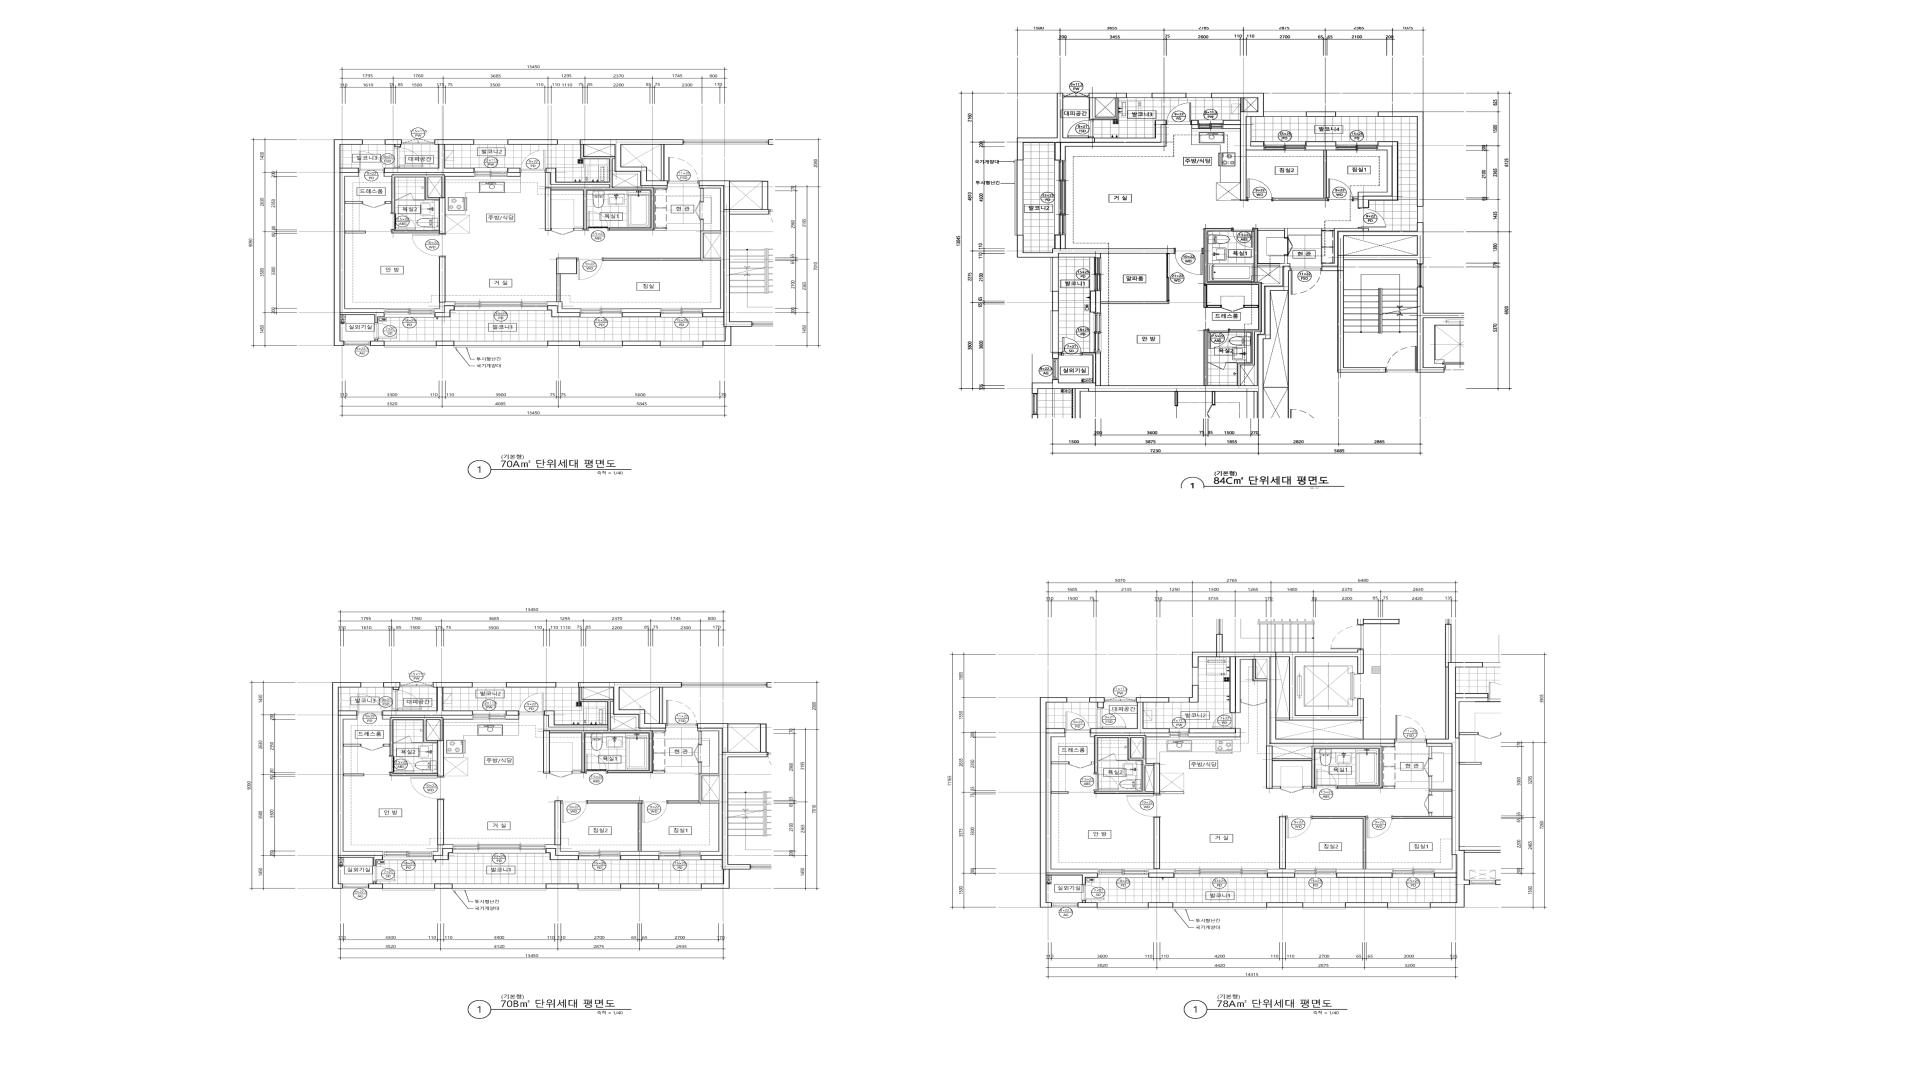door: (666, 700, 698, 728), (1291, 266, 1321, 294), (1174, 248, 1204, 276), (1395, 715, 1427, 741), (667, 157, 699, 183), (1331, 625, 1364, 650), (1127, 794, 1160, 818), (413, 233, 446, 257), (410, 777, 444, 799), (393, 690, 422, 711), (1366, 816, 1393, 839), (560, 800, 587, 823), (518, 692, 545, 715), (520, 150, 546, 173), (1097, 708, 1126, 728), (394, 148, 423, 167), (642, 800, 667, 823), (357, 694, 382, 716), (1064, 712, 1091, 733), (1286, 816, 1312, 837), (576, 258, 603, 280), (1246, 179, 1273, 200), (1328, 179, 1354, 200), (1358, 208, 1386, 228), (359, 152, 384, 173), (1166, 103, 1191, 124), (1067, 120, 1095, 137), (1315, 769, 1337, 789), (587, 211, 609, 231), (1233, 228, 1254, 248), (585, 754, 608, 773), (1207, 330, 1229, 348), (1095, 774, 1118, 791), (390, 756, 414, 773), (1062, 338, 1083, 356), (392, 214, 415, 229), (1083, 885, 1105, 901), (373, 866, 396, 882), (375, 323, 397, 339), (1213, 713, 1236, 728), (1208, 363, 1237, 371), (1166, 253, 1170, 302), (695, 200, 704, 220), (1241, 699, 1267, 705), (360, 744, 384, 750), (1284, 236, 1292, 256), (1069, 762, 1092, 769), (1280, 786, 1303, 793), (550, 771, 572, 778), (551, 228, 574, 235), (363, 202, 385, 208), (1221, 305, 1244, 311), (1098, 753, 1117, 761), (1424, 758, 1432, 777), (393, 736, 411, 744), (1424, 795, 1432, 812), (694, 745, 702, 762), (396, 193, 413, 200)
wall: (1031, 266, 1290, 418), (1393, 624, 1465, 907), (1192, 650, 1395, 744), (1321, 223, 1424, 373), (1236, 657, 1395, 746), (1204, 228, 1290, 386), (543, 682, 682, 774), (1039, 698, 1098, 907), (699, 181, 769, 345), (698, 724, 767, 889), (332, 682, 382, 889), (334, 140, 384, 345), (1017, 92, 1166, 160), (545, 145, 654, 231), (1047, 733, 1098, 873), (339, 716, 382, 856), (340, 173, 384, 313), (1212, 92, 1265, 200), (1266, 746, 1382, 789), (603, 220, 720, 261), (580, 140, 683, 186), (1378, 112, 1424, 207), (1418, 287, 1464, 373), (1095, 736, 1160, 794), (1017, 235, 1174, 257), (390, 717, 444, 777), (699, 186, 724, 313), (382, 682, 472, 716), (698, 729, 721, 856), (384, 140, 475, 173), (1312, 816, 1366, 869), (587, 800, 642, 852), (1091, 698, 1170, 733), (1273, 150, 1328, 200), (1358, 141, 1398, 208), (1263, 291, 1288, 388), (392, 174, 444, 214), (1321, 228, 1364, 266), (611, 702, 666, 731), (613, 160, 667, 187), (1344, 236, 1418, 256), (543, 715, 608, 731), (1089, 98, 1118, 120), (1189, 728, 1241, 737), (1429, 777, 1452, 795), (1435, 855, 1457, 873), (702, 777, 719, 800), (1257, 266, 1280, 284), (546, 844, 579, 856), (546, 848, 579, 860), (1427, 744, 1452, 758), (384, 173, 475, 177), (382, 716, 472, 720), (1279, 816, 1286, 869), (547, 306, 580, 316), (547, 302, 580, 313), (1154, 818, 1160, 869), (556, 257, 576, 274), (1091, 733, 1170, 737), (1253, 659, 1267, 680), (438, 799, 444, 845), (554, 800, 560, 845), (439, 257, 446, 302), (1337, 873, 1393, 878), (426, 720, 440, 740), (1305, 141, 1336, 150), (1101, 301, 1170, 305), (1358, 618, 1399, 625), (508, 140, 558, 145), (506, 682, 556, 687), (1089, 291, 1101, 313), (1189, 728, 1236, 733), (439, 198, 446, 233), (433, 844, 452, 856), (433, 848, 452, 860), (1336, 869, 1393, 873), (1345, 902, 1387, 907), (1204, 330, 1208, 385), (435, 306, 455, 316), (435, 302, 455, 313), (620, 851, 659, 856), (1089, 92, 1126, 98), (621, 884, 658, 889), (1267, 902, 1303, 907), (392, 229, 439, 233), (1153, 92, 1187, 98), (1089, 698, 1105, 708), (546, 884, 578, 889), (1305, 112, 1336, 117), (1189, 686, 1199, 703), (620, 856, 659, 860), (622, 309, 661, 313), (622, 342, 661, 345), (622, 313, 661, 316), (1267, 873, 1295, 878), (661, 145, 665, 181), (1149, 873, 1175, 878), (385, 140, 402, 148), (384, 682, 401, 690), (1077, 901, 1097, 907), (1052, 291, 1059, 311), (1149, 902, 1172, 907), (547, 342, 579, 345), (508, 167, 520, 177), (556, 274, 560, 302), (1267, 869, 1295, 873), (1149, 869, 1175, 873), (434, 884, 452, 889), (659, 687, 662, 724), (368, 882, 382, 889), (1447, 667, 1448, 738), (371, 339, 384, 345), (667, 800, 699, 803), (1191, 120, 1199, 129), (505, 711, 518, 716), (436, 342, 454, 345), (1160, 791, 1184, 794), (345, 231, 365, 233), (700, 189, 704, 202), (505, 716, 518, 720), (345, 202, 363, 204), (1052, 352, 1059, 359), (731, 181, 762, 182), (1241, 98, 1244, 112), (1382, 786, 1395, 789), (1276, 717, 1290, 720), (653, 770, 665, 773), (654, 228, 666, 231), (574, 228, 584, 231), (1303, 786, 1312, 789), (1273, 786, 1280, 789), (385, 202, 392, 204), (384, 744, 390, 746), (413, 199, 425, 200), (1117, 760, 1127, 761), (1353, 198, 1358, 200), (411, 742, 422, 744), (572, 771, 582, 773), (1429, 812, 1432, 816), (1092, 762, 1095, 765), (1059, 352, 1062, 355), (728, 724, 761, 724)
window: (452, 844, 546, 853), (1175, 869, 1267, 878), (1055, 160, 1065, 235), (455, 302, 547, 310), (1172, 903, 1267, 910), (454, 342, 547, 348), (452, 884, 546, 890), (1015, 160, 1023, 236), (384, 309, 435, 318), (1089, 313, 1101, 352), (1098, 869, 1149, 878), (1089, 257, 1101, 291), (382, 852, 433, 860), (1393, 869, 1435, 878), (1295, 869, 1337, 878), (1263, 141, 1305, 150), (1336, 141, 1378, 150), (661, 309, 703, 318), (580, 309, 622, 318), (1050, 311, 1059, 352), (659, 851, 700, 860), (579, 851, 620, 860), (382, 884, 435, 890), (384, 342, 436, 348), (1387, 902, 1431, 910), (1097, 903, 1149, 910), (1303, 902, 1345, 910), (472, 711, 506, 720), (1050, 257, 1059, 291), (475, 167, 508, 177), (579, 342, 622, 348), (578, 884, 621, 890), (658, 884, 702, 890), (661, 342, 703, 348), (1199, 120, 1224, 129), (1336, 112, 1378, 117), (402, 138, 434, 145), (1105, 696, 1135, 703), (1170, 728, 1189, 737), (473, 140, 508, 145), (472, 682, 506, 687), (400, 682, 433, 687), (1263, 112, 1305, 116), (1418, 264, 1424, 287), (1051, 902, 1077, 907), (1126, 92, 1153, 98), (1063, 92, 1089, 98), (1052, 359, 1059, 380), (1187, 92, 1212, 98), (343, 884, 368, 889), (1192, 667, 1199, 686), (1067, 698, 1089, 703), (361, 682, 384, 687), (363, 140, 385, 145), (558, 140, 580, 145), (556, 682, 579, 687), (1170, 698, 1189, 703), (1418, 207, 1424, 223), (344, 342, 371, 345)
